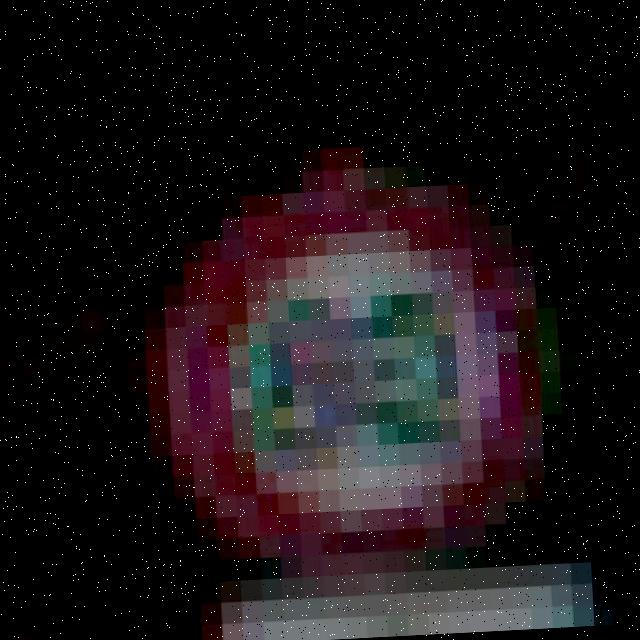Ograniczenie predkosci do 80: (144, 163, 566, 570)
